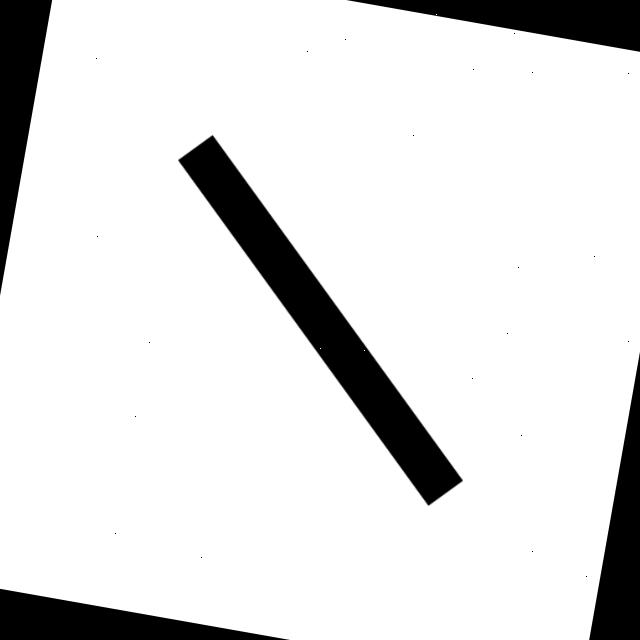line: (178, 135, 462, 505)
